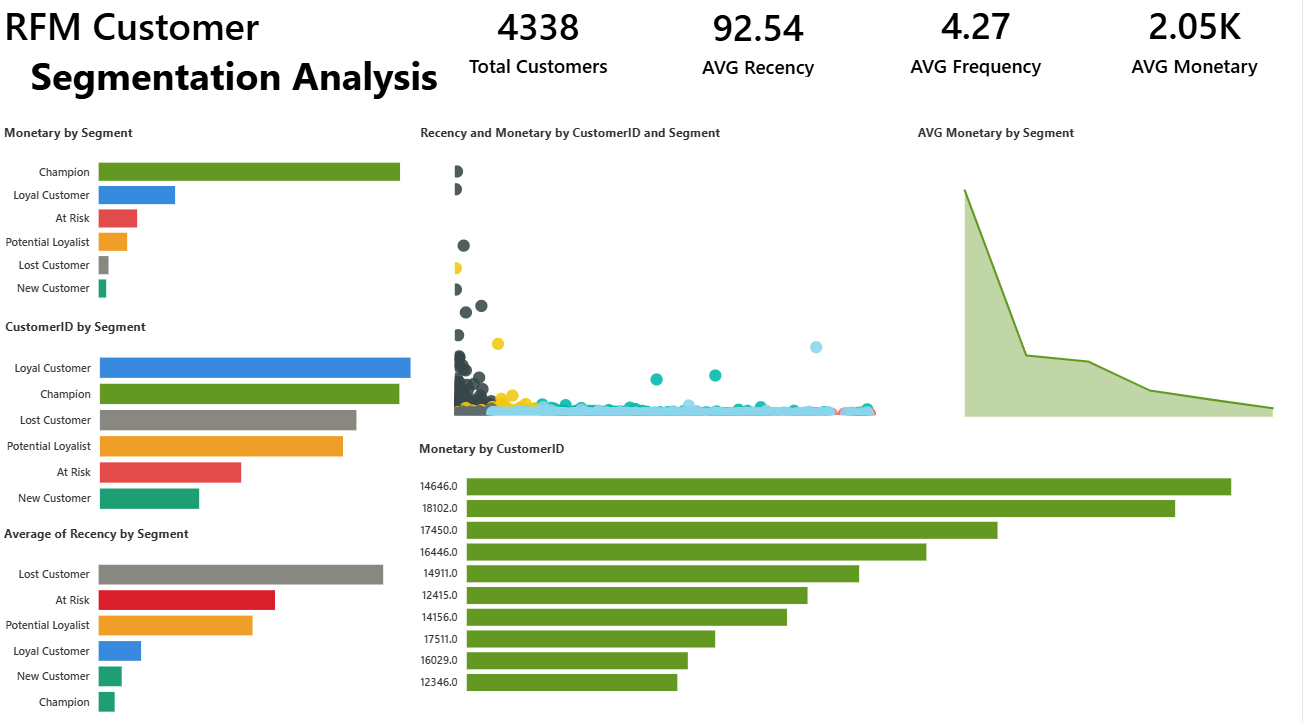

Layout of this report page (visuals, bound fields, positions):
{"tool":"powerbi","page":{"name":"Page 1","canvas":[1280,720],"ordinal":0},"visuals":[{"type":"card","fields":{"Values":["CountNonNull(RFM_Segments_Fixed.CustomerID)"]},"box":[418.4,1.2,222.1,84.7],"z":0},{"type":"clusteredBarChart","fields":{"Category":["RFM_Segments_Fixed.Segment"],"Y":["Sum(RFM_Segments_Fixed.Monetary)"]},"box":[0,127.6,408.6,185.3],"z":1000},{"type":"clusteredBarChart","fields":{"Category":["RFM_Segments_Fixed.CustomerID"],"Y":["Sum(RFM_Segments_Fixed.Monetary)"]},"box":[407.4,438,872.4,282.2],"z":2000},{"type":"scatterChart","fields":{"X":["Sum(RFM_Segments_Fixed.Recency)"],"Y":["Sum(RFM_Segments_Fixed.Monetary)"],"Category":["RFM_Segments_Fixed.CustomerID"],"Series":["RFM_Segments_Fixed.Segment"]},"box":[408.6,127.6,488.3,312.9],"z":3000},{"type":"textbox","box":[0,0,458.9,112.9],"z":4000},{"type":"card","fields":{"Values":["Avg(RFM_Segments_Fixed.Recency)"]},"box":[640.5,3.7,209.8,82.2],"z":5000},{"type":"card","fields":{"Values":["Avg(RFM_Segments_Fixed.Frequency)"]},"box":[850.3,0,217.2,85.9],"z":6000},{"type":"card","fields":{"Values":["Avg(RFM_Segments_Fixed.Monetary)"]},"box":[1067.5,0,212.3,85.9],"z":7000},{"type":"clusteredBarChart","title":"CustomerID by Segment","fields":{"Category":["RFM_Segments_Fixed.Segment"],"Y":["Count(RFM_Segments_Fixed.CustomerID)"]},"box":[1,317.8,408.6,203.7],"z":8000},{"type":"clusteredBarChart","fields":{"Y":["Avg(RFM_Segments_Fixed.Recency)"],"Category":["RFM_Segments_Fixed.Segment"]},"box":[0,521.5,408.6,198.8],"z":9000},{"type":"areaChart","title":"AVG Monetary by Segment","fields":{"Category":["RFM_Segments_Fixed.Segment"],"Y":["Avg(RFM_Segments_Fixed.Monetary)"]},"box":[896.9,127.6,382.8,300.6],"z":10000}]}

Visuals, with their boxes in screenshot pixels (x1, y1, x2, y2), scaled from the page's 1280x720 canvas onto the 1303x722 screenshot:
card - CountNonNull(RFM_Segments_Fixed.CustomerID): 426/1/652/86
clusteredBarChart - RFM_Segments_Fixed.Segment x Sum(RFM_Segments_Fixed.Monetary): 0/128/416/314
clusteredBarChart - RFM_Segments_Fixed.CustomerID x Sum(RFM_Segments_Fixed.Monetary): 415/439/1302/721
scatterChart - Sum(RFM_Segments_Fixed.Recency) x Sum(RFM_Segments_Fixed.Monetary): 416/128/913/442
textbox: 0/0/467/113
card - Avg(RFM_Segments_Fixed.Recency): 652/4/866/86
card - Avg(RFM_Segments_Fixed.Frequency): 866/0/1087/86
card - Avg(RFM_Segments_Fixed.Monetary): 1087/0/1302/86
"CustomerID by Segment" clusteredBarChart: 1/319/417/523
clusteredBarChart - Avg(RFM_Segments_Fixed.Recency) x RFM_Segments_Fixed.Segment: 0/523/416/721
"AVG Monetary by Segment" areaChart: 913/128/1302/429
